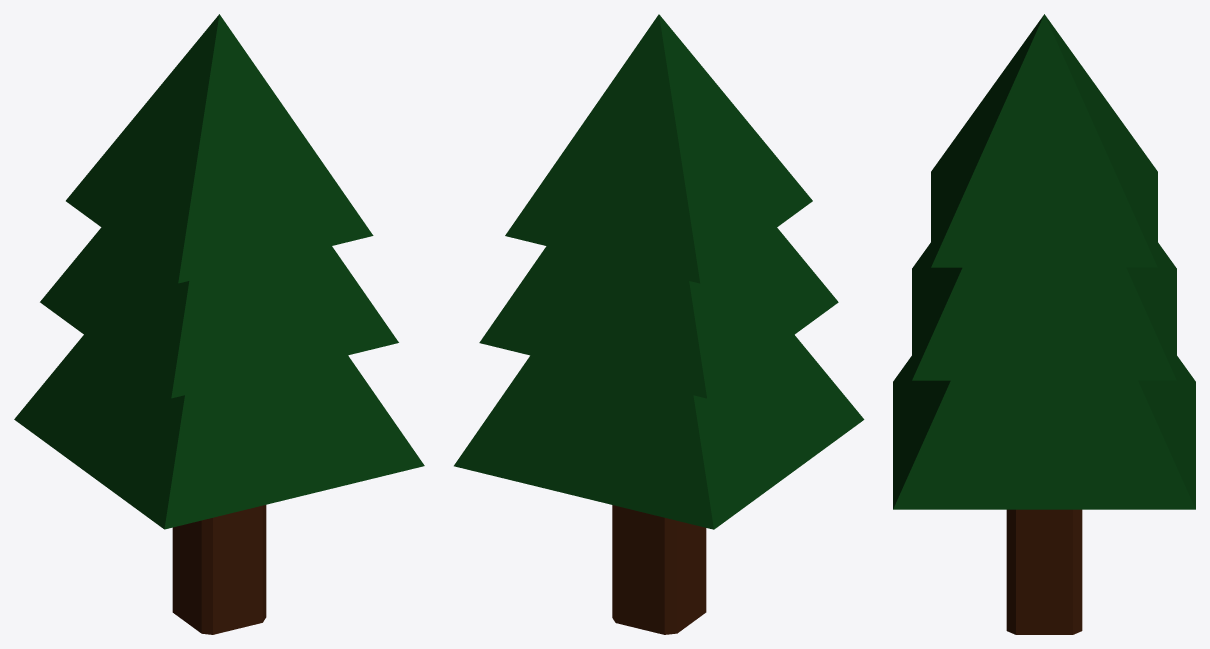
File: tree.obj
3 views of the same model, side by side, from view 1: azimuth 30°, elevation 25°; view 2: azimuth 150°, elevation 25°; view 3: azimuth 270°, elevation 25° (orthographic).
Parts seen in each view (by area): view 1: Cube.003; view 2: Cube.003; view 3: Cube.003.
Part boxes in pixels (x1=…): Cube.003: x1=14, y1=14, x2=424, y2=634; Cube.003: x1=454, y1=14, x2=864, y2=634; Cube.003: x1=893, y1=14, x2=1195, y2=634.
Bounding box in the file's own units: 4 × 8.82 × 4.
